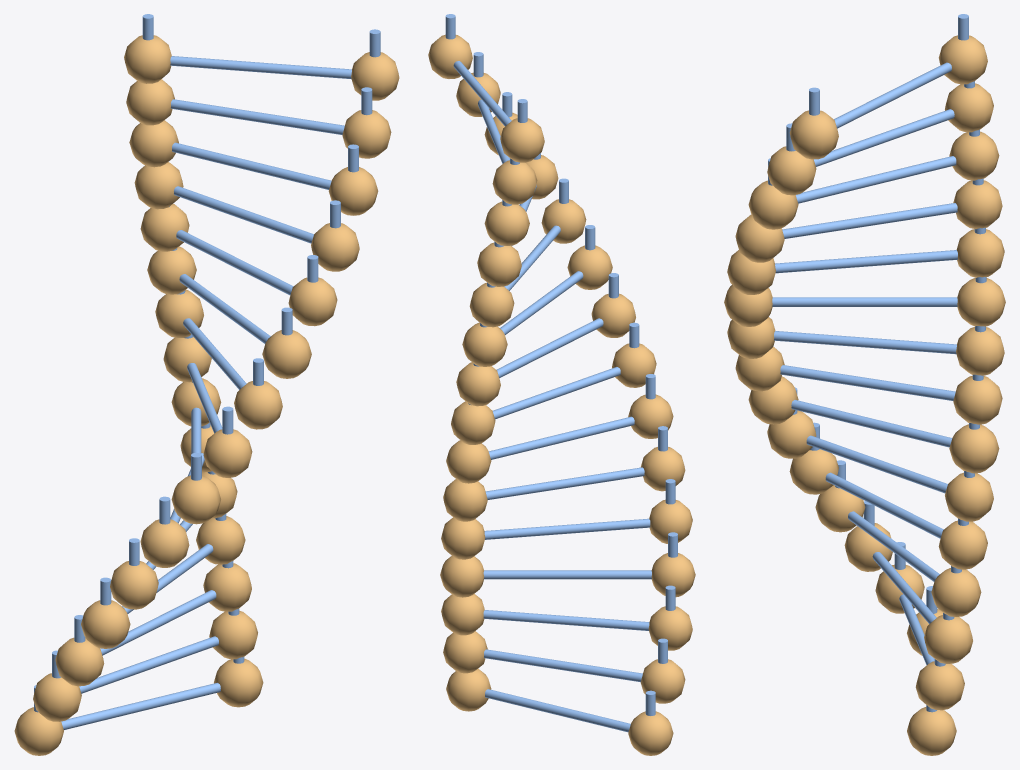
The model's file is DNA.fbx.
The picture shows the model from 3 angles, left to right: view 1: azimuth 30°, elevation 25°; view 2: azimuth 150°, elevation 25°; view 3: azimuth 270°, elevation 25°; orthographic projection. The views are drawn at different scales.
Visible parts, largest first — view 1: Middle_String_15, DNA_Sphere_0_4, DNA_Sphere_0_10, DNA_Sphere_0_7, DNA_Sphere_0_6, DNA_Sphere_0_8, DNA_Sphere_0_5, DNA_Sphere_0_9, DNA_Sphere_0_11, Middle_String_14, DNA_Sphere_1_15, DNA_Sphere_1 (+29 smaller); view 2: Middle_String_4, Middle_String_5, Middle_String_3, DNA_Sphere_0, Middle_String_2, Middle_String_6, DNA_Sphere_1_13, DNA_Sphere_1_15, DNA_Sphere_1_14, DNA_Sphere_1_10, DNA_Sphere_1_12, DNA_Sphere_1_11 (+30 smaller); view 3: Middle_String_9, Middle_String_11, DNA_Sphere_1_7, DNA_Sphere_1_4, Middle_String_12, Middle_String_8, DNA_Sphere_0_15, DNA_Sphere_1_10, Middle_String_10, DNA_Sphere_1_8, DNA_Sphere_1, DNA_Sphere_1_5 (+31 smaller).
Part boxes in pixels (box(x1,y1,x2,y2)): Middle_String_15: box(170, 56, 351, 79); DNA_Sphere_0_4: box(81, 600, 130, 648); DNA_Sphere_0_10: box(262, 330, 311, 378); DNA_Sphere_0_7: box(171, 475, 220, 524); DNA_Sphere_0_6: box(140, 519, 189, 567); DNA_Sphere_0_8: box(203, 429, 252, 477); DNA_Sphere_0_5: box(110, 561, 158, 609); DNA_Sphere_0_9: box(234, 381, 282, 429); DNA_Sphere_0_11: box(288, 277, 337, 326); Middle_String_14: box(171, 99, 344, 134); DNA_Sphere_1_15: box(124, 35, 171, 83); DNA_Sphere_1: box(214, 658, 263, 707); Middle_String_4: box(483, 570, 651, 579); Middle_String_5: box(484, 518, 650, 539); Middle_String_3: box(483, 610, 649, 630); DNA_Sphere_0: box(628, 711, 673, 755); Middle_String_2: box(484, 649, 642, 682); Middle_String_6: box(485, 467, 644, 499); DNA_Sphere_1_13: box(484, 201, 529, 245); DNA_Sphere_1_15: box(500, 118, 544, 162); DNA_Sphere_1_14: box(492, 160, 537, 204); DNA_Sphere_1_10: box(462, 322, 507, 366); DNA_Sphere_1_12: box(477, 242, 521, 286); DNA_Sphere_1_11: box(469, 283, 514, 327); Middle_String_9: box(774, 331, 956, 354); Middle_String_11: box(775, 250, 957, 273); DNA_Sphere_1_7: box(949, 424, 999, 473); DNA_Sphere_1_4: box(931, 568, 981, 616); Middle_String_12: box(782, 203, 957, 238); Middle_String_8: box(780, 365, 955, 400); DNA_Sphere_0_15: box(789, 110, 838, 159); DNA_Sphere_1_10: box(957, 278, 1005, 326); Middle_String_10: box(772, 297, 957, 306); DNA_Sphere_1_8: box(953, 376, 1002, 424); DNA_Sphere_1: box(907, 707, 956, 755); DNA_Sphere_1_5: box(938, 520, 987, 569).
Size of the model in its own units: 447 by 929 by 338.
